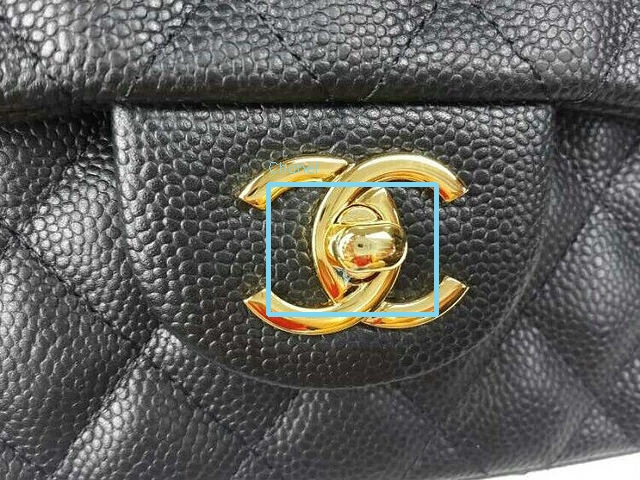Chanel: (227, 149, 471, 341)
